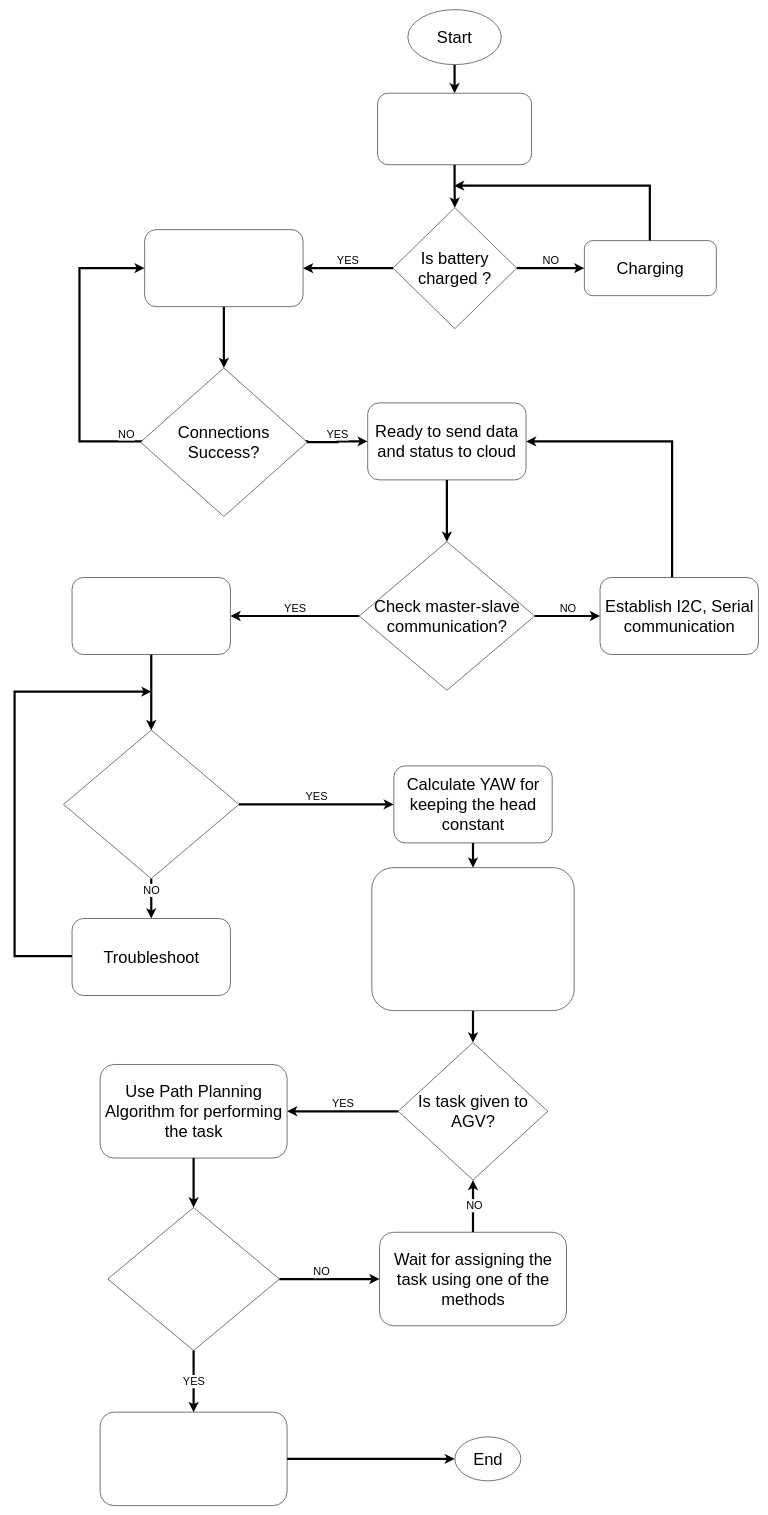
Image size: 768x1515. Some labels were removed from this diagram. The centre of each missing label's shape, as x and y in pixels:
All task completed: the point at 193,1459
Establish Internet Connection: the point at 223,268
Is all task completed?: the point at 193,1279
Is Camera Enabled?: the point at 151,804
Machine Vision System Activated: the point at 151,615
Method of providing the task 1) Cloud 2) QR Code 3) Keypad Input: the point at 472,939
Power Management Unit Activated: the point at 454,129
